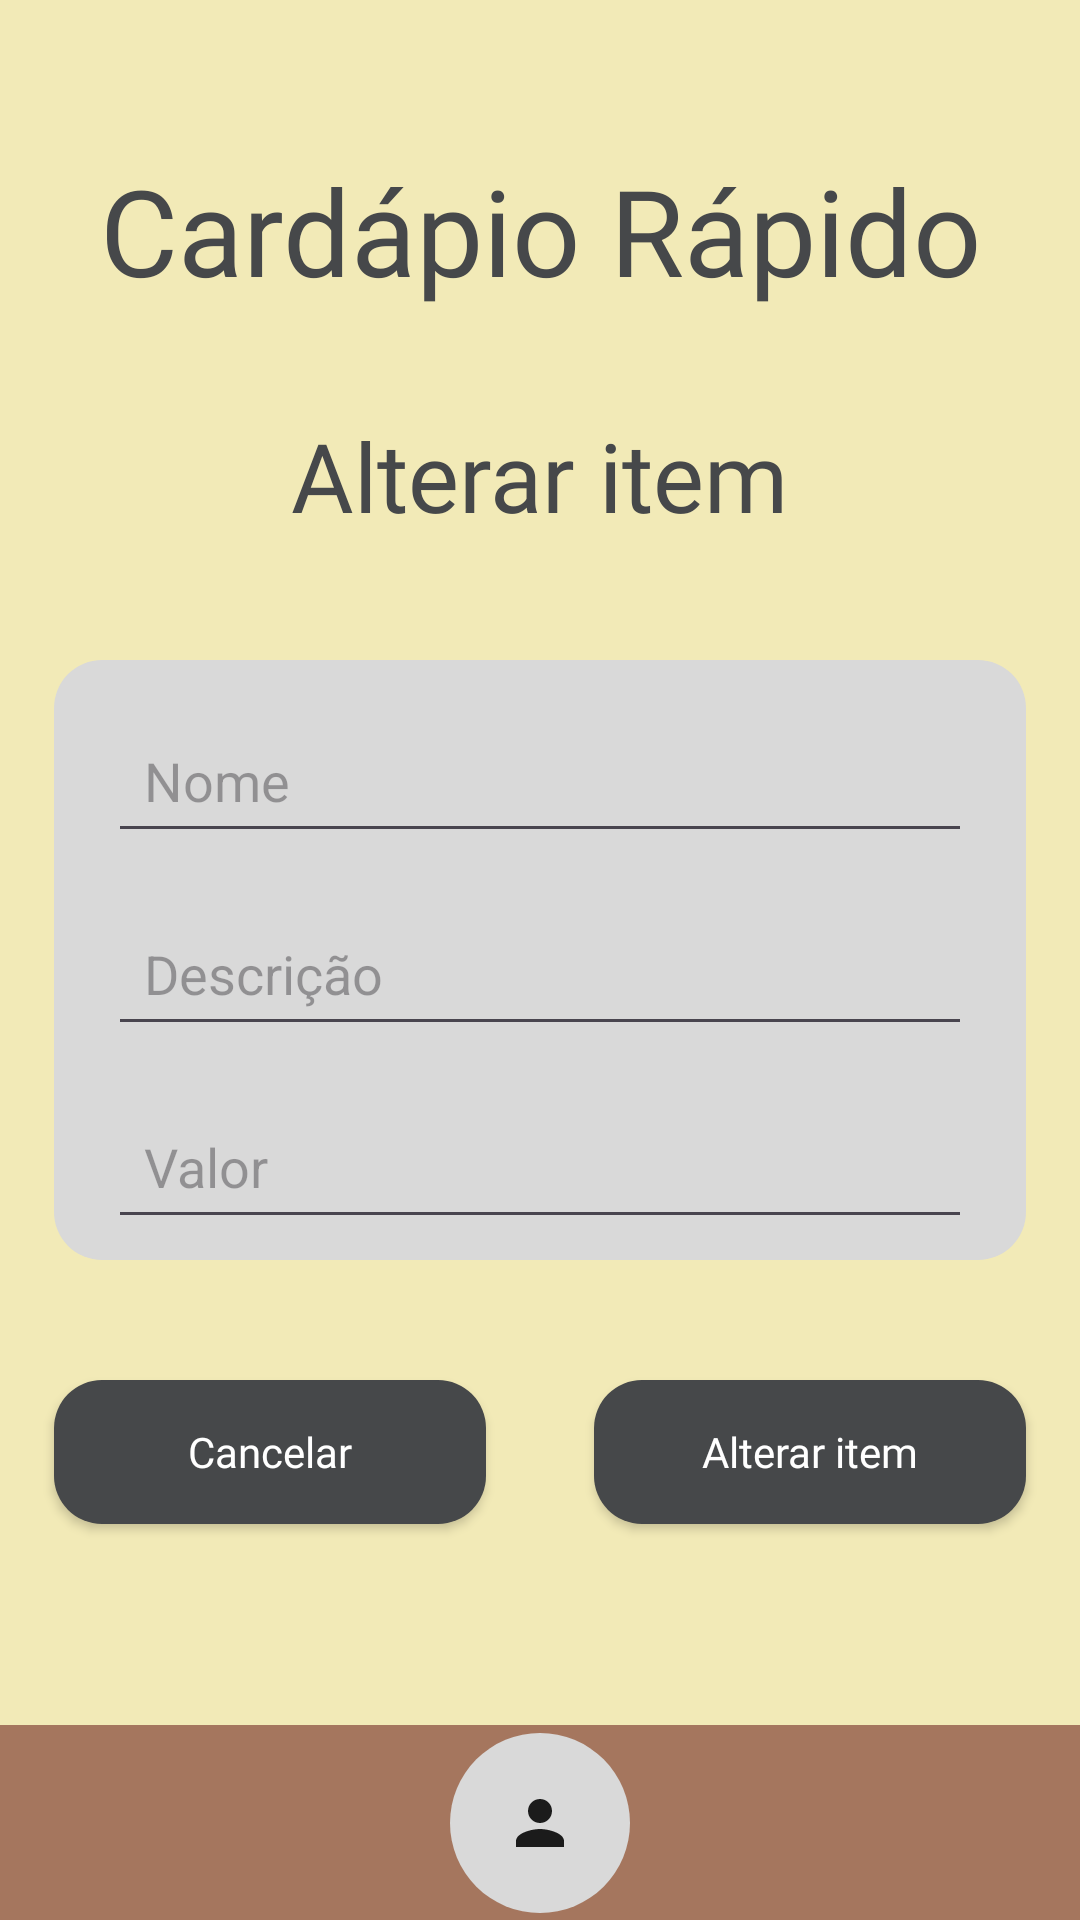

Where to tap for icons on this 1080×1920 app screen, as point (x, y):
user: point (540, 1823)
